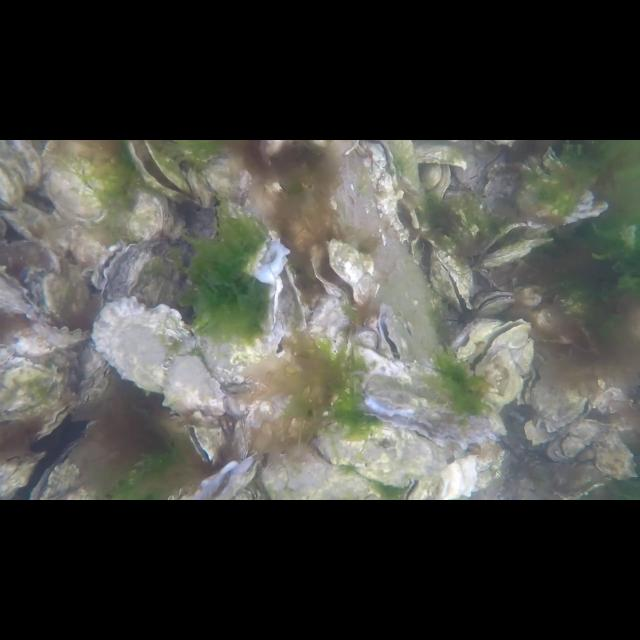Oyster-Closed: (90, 294, 226, 414), (316, 419, 448, 489), (42, 140, 128, 224), (0, 353, 78, 421), (245, 349, 297, 429), (3, 198, 71, 255), (0, 140, 46, 208), (42, 270, 98, 322), (307, 295, 351, 355), (480, 236, 556, 270), (124, 194, 168, 243), (387, 140, 421, 192), (39, 319, 93, 347), (355, 327, 379, 353)
Oyster-Open: (360, 365, 498, 451), (205, 156, 291, 284), (359, 140, 419, 240), (309, 238, 376, 312), (30, 440, 110, 500), (526, 368, 590, 430), (127, 140, 193, 198), (466, 318, 532, 376), (192, 452, 262, 500), (428, 251, 476, 313), (272, 259, 306, 337), (90, 238, 136, 292), (449, 316, 506, 359), (1, 262, 44, 316), (376, 303, 412, 362), (36, 400, 78, 442), (186, 424, 224, 466), (472, 290, 516, 314)
